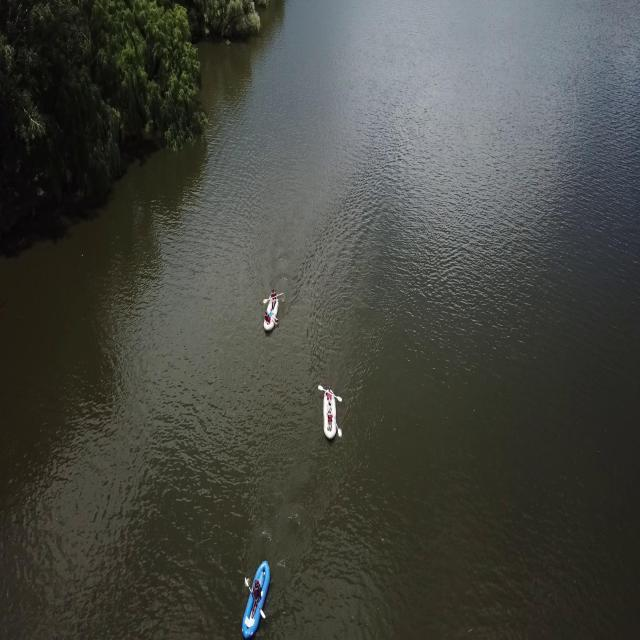kayak: (239, 550, 272, 640), (315, 382, 344, 444), (262, 286, 286, 336)
